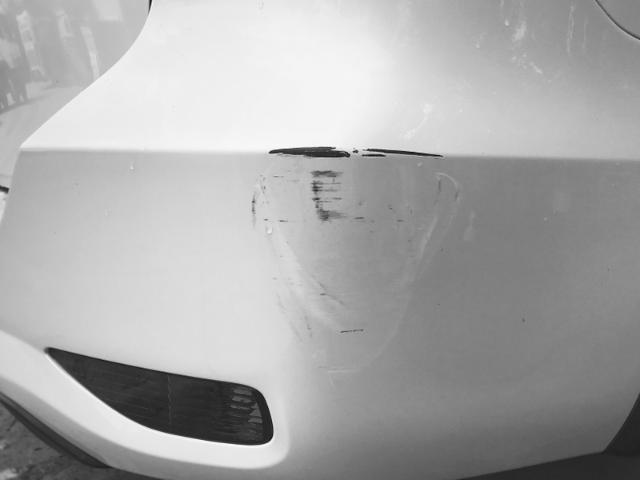Bumper: (215, 105, 509, 378)
